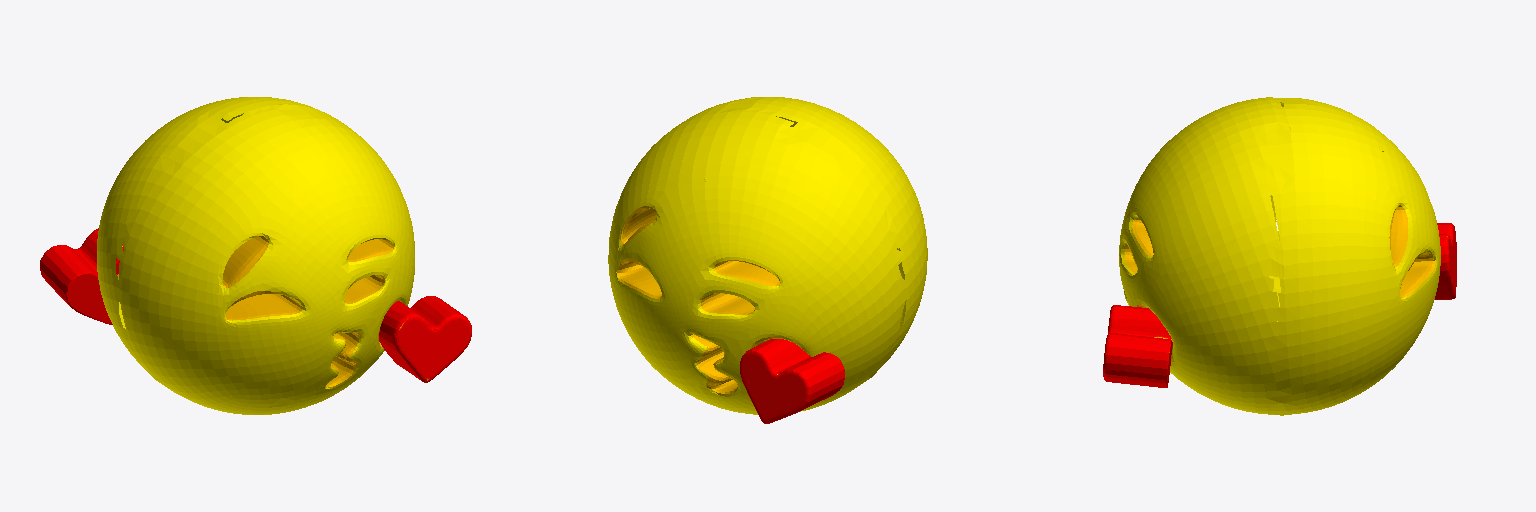
3 renders of one model, left to right at view 1: azimuth 30°, elevation 25°; view 2: azimuth 150°, elevation 25°; view 3: azimuth 270°, elevation 25°, orthographic.
Parts seen in each view (by area): view 1: Group13086.001; view 2: Group13086.001; view 3: Group13086.001.
Part boxes in pixels (bbox=[...]): Group13086.001: bbox=[40, 97, 471, 414]; Group13086.001: bbox=[608, 97, 927, 423]; Group13086.001: bbox=[1103, 97, 1456, 415].
Size of the model in its own units: 1.51 by 1.51 by 1.68.
1 materials, 1 textured.